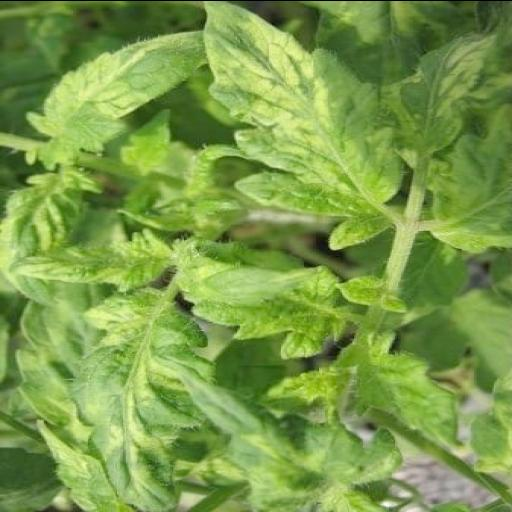disease_tomato: (192, 0, 415, 249), (70, 286, 210, 512), (20, 26, 204, 168), (171, 256, 339, 361), (393, 26, 502, 164), (0, 166, 105, 305), (5, 224, 172, 292)
